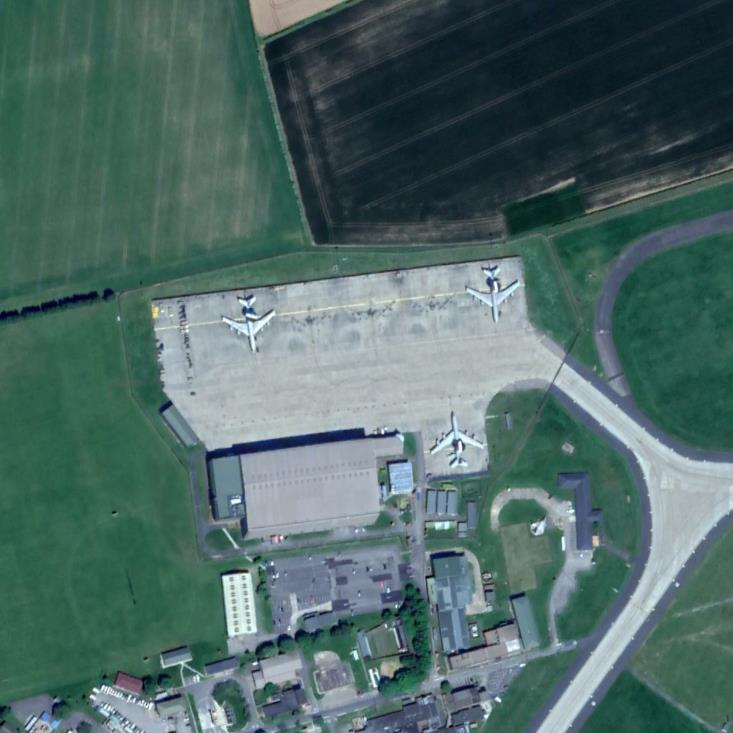A7: (218, 294, 279, 357), (463, 262, 521, 325), (427, 411, 486, 468)
